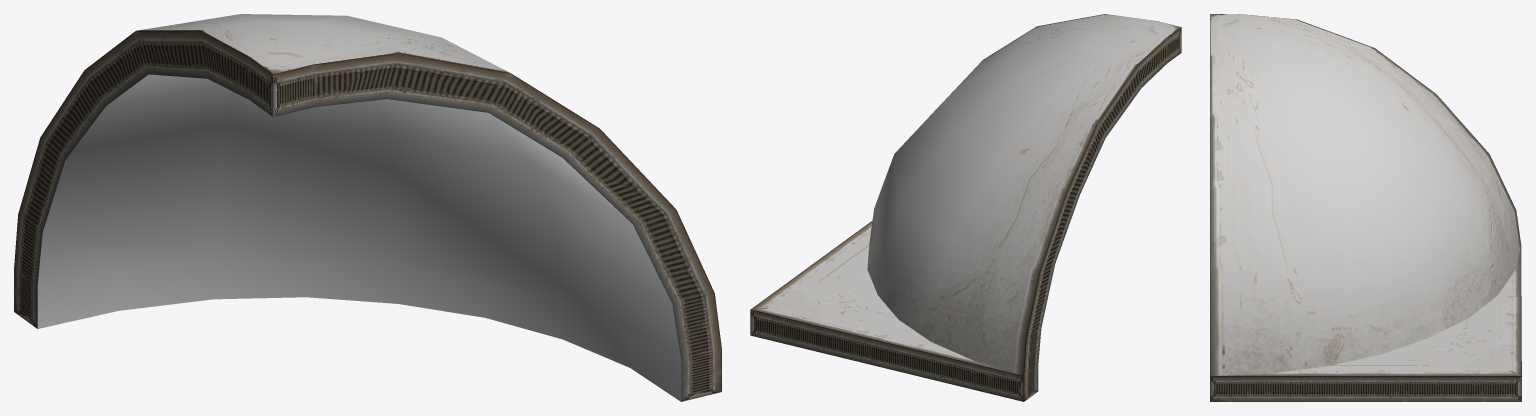
File: scifi_wall_top2_curve6_2.FBX
3 renders of one model, left to right at view 1: azimuth 30°, elevation 25°; view 2: azimuth 150°, elevation 25°; view 3: azimuth 270°, elevation 25°, orthographic. The views are drawn at different scales.
Visible parts, largest first — view 1: Plane367; view 2: Plane367; view 3: Plane367.
Boxes of the visible parts, <box> form: Plane367: <box>14,14,721,401</box>; Plane367: <box>750,14,1181,401</box>; Plane367: <box>1210,14,1521,401</box>.
Size of the model in its own units: 280 by 254 by 280.
